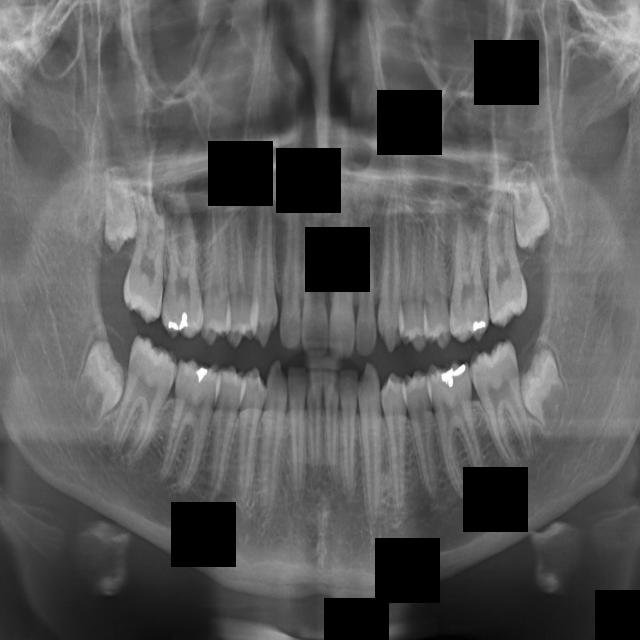3M ESPE Implant: (104, 164, 137, 253)
AGS Medikal Implant: (356, 204, 377, 357)
AMerOss Implant: (376, 185, 401, 353)
Amalgam filling: (401, 200, 427, 354)
Anthogyr Implant: (416, 197, 452, 351)
Bicon Implant: (445, 205, 490, 344)
BioHorizons Implant: (497, 204, 506, 252)
BioLife Implant: (504, 160, 556, 256)
Biomet 3i Implant: (514, 342, 575, 439)
Blue Sky Bio Implant: (465, 336, 539, 475)
Camlog Implant: (426, 356, 492, 506)
Caries: (148, 210, 155, 244)
Composite filling: (401, 368, 449, 503)
Cowellmedi Implant: (379, 372, 417, 517)
Crown: (356, 361, 386, 528)
DENTSPLY Implant: (336, 368, 358, 494)
Dentatus Implant: (322, 366, 339, 484)
Dentis Implant: (306, 367, 321, 484)
Dentium Implant: (287, 365, 306, 502)
Euroteknika Implant: (254, 359, 290, 521)
Filling: (229, 367, 266, 510)
Frontier Implant: (194, 364, 247, 506)
Hiossen Implant: (160, 195, 207, 340)
Implant: (104, 332, 181, 474)
Implant Direct: (153, 356, 222, 500)
Keystone Dental Implant: (62, 336, 138, 439)
MIS Implant: (199, 199, 225, 346)
Mandible: (219, 193, 256, 349)
Maxilla: (249, 190, 279, 348)
Megagen Implant: (278, 193, 307, 350)
Neodent Implant: (302, 182, 328, 357)
Neoss Implant: (328, 205, 357, 358)
